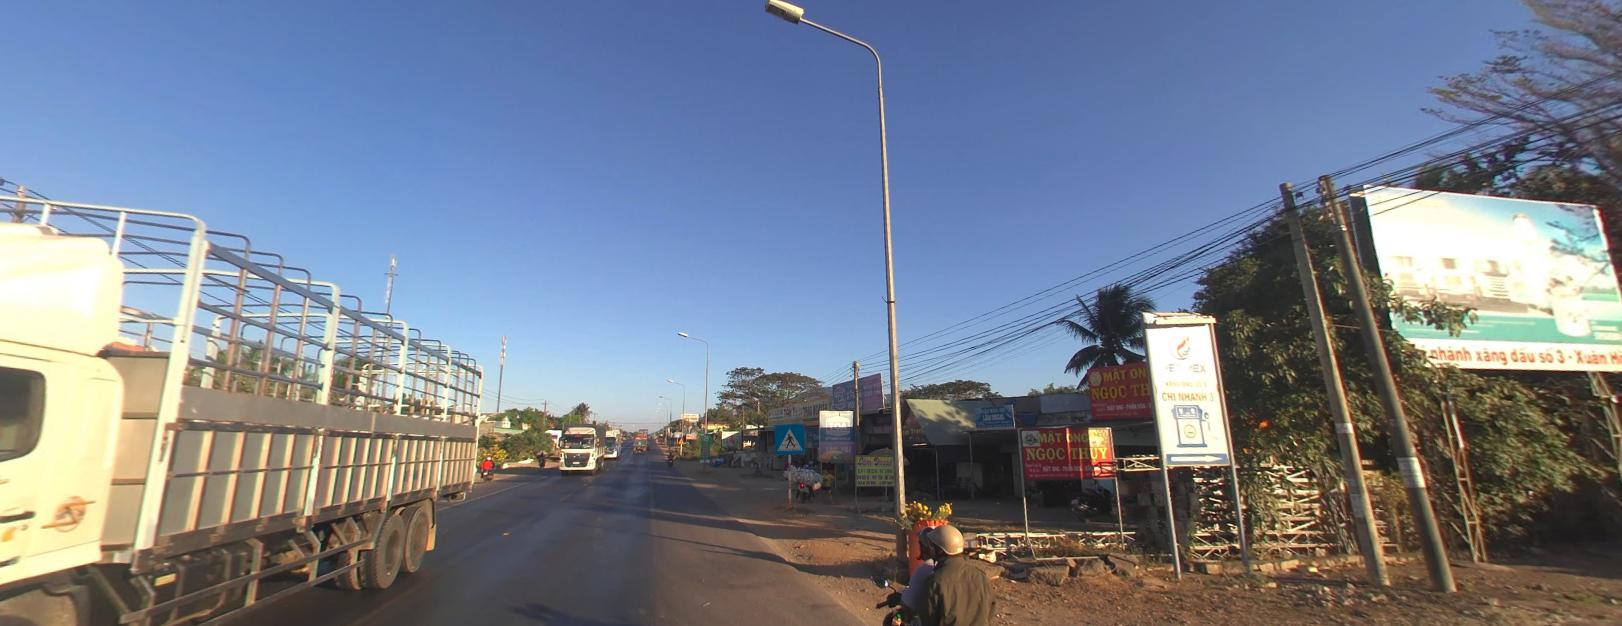Nguy hiem: (678, 436, 684, 442)
